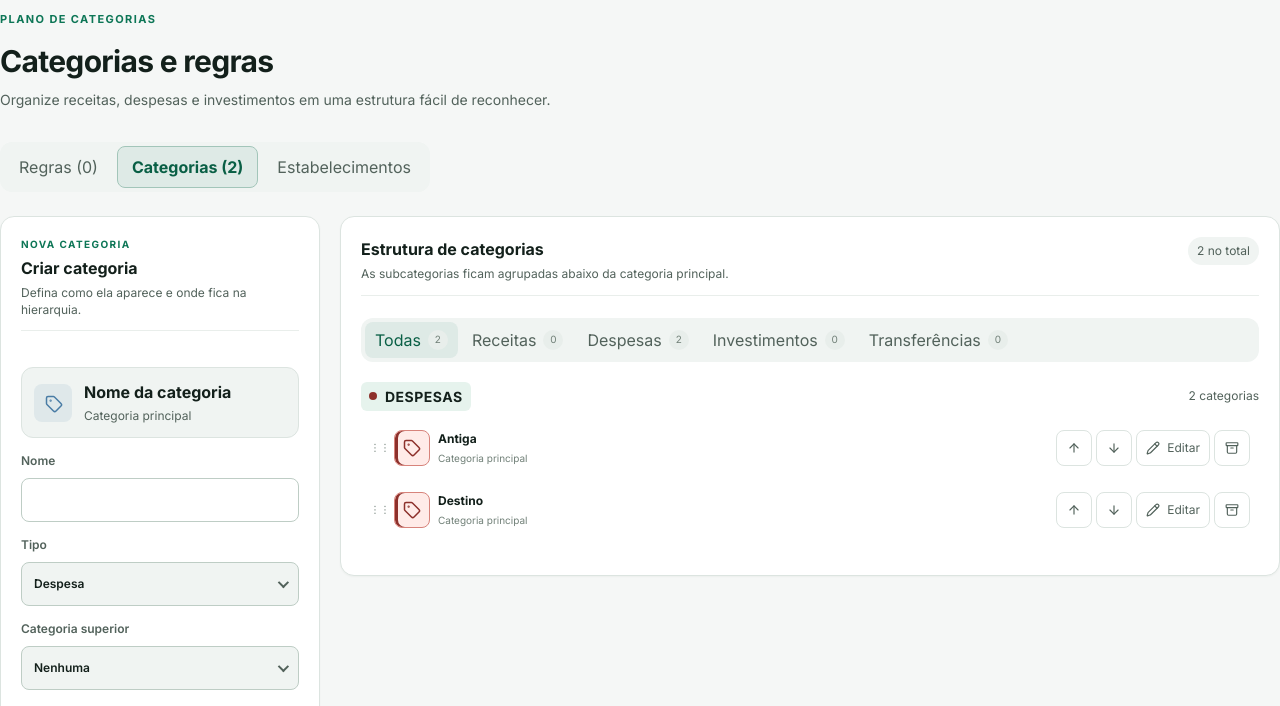
it: CategoriesRules merchants › invalidates an outstanding preview when the merge modal closes
Click the button named "Arquivar Antiga": (1232,448) [1214,430,1250,466]
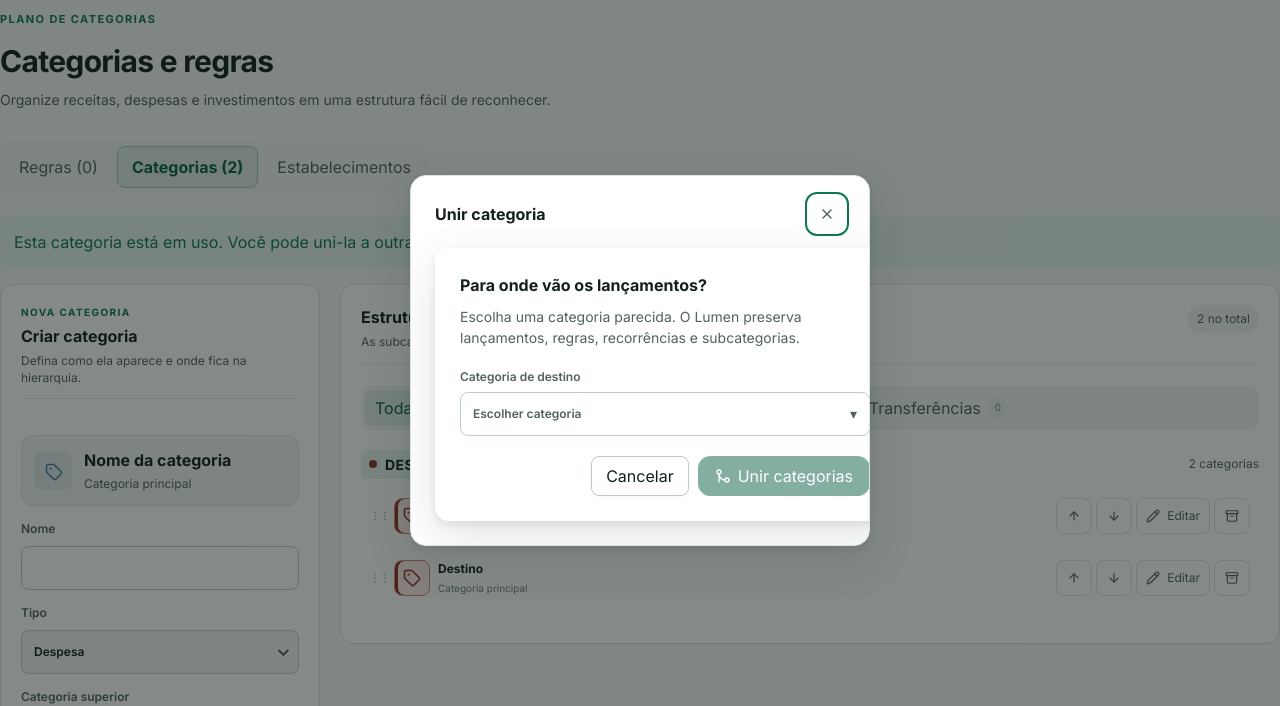
Click the button with aria-label "Categoria de destino": (527,413) [460,392,870,436]
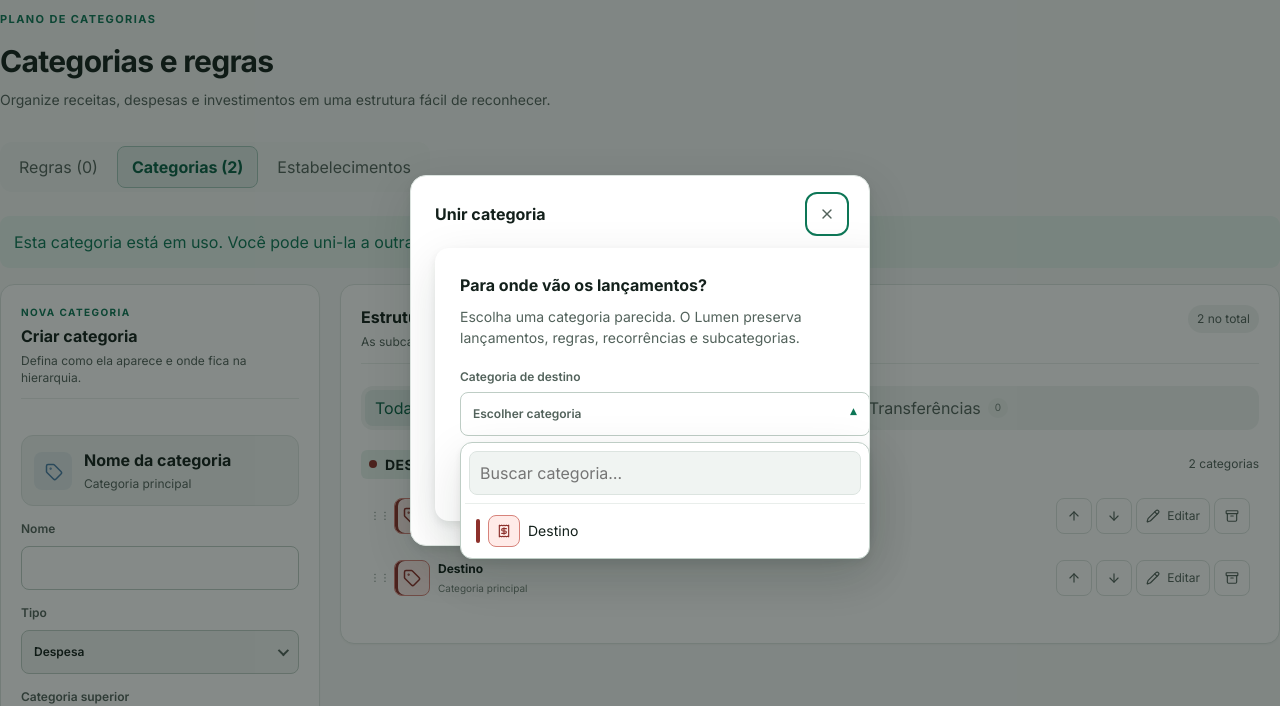
Click the option "Destino": (504,530) [465,508,865,554]
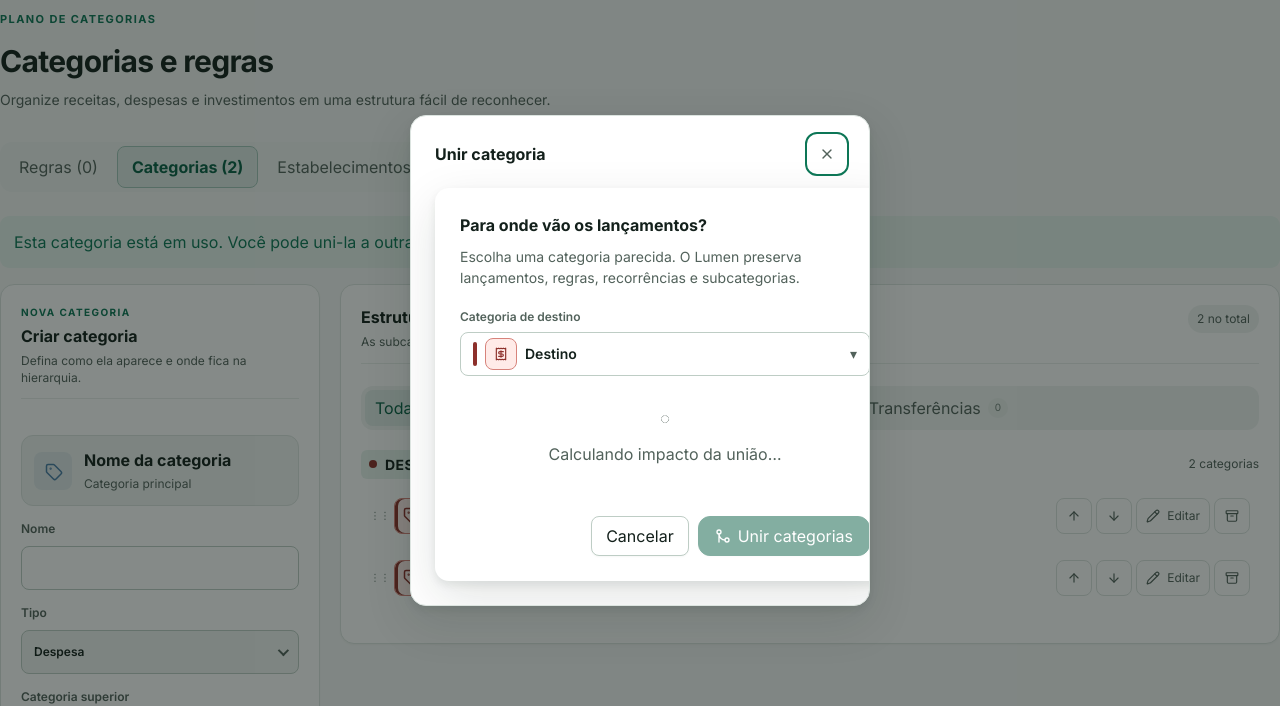
Click the button "Cancelar": (640,536) [591,516,689,556]
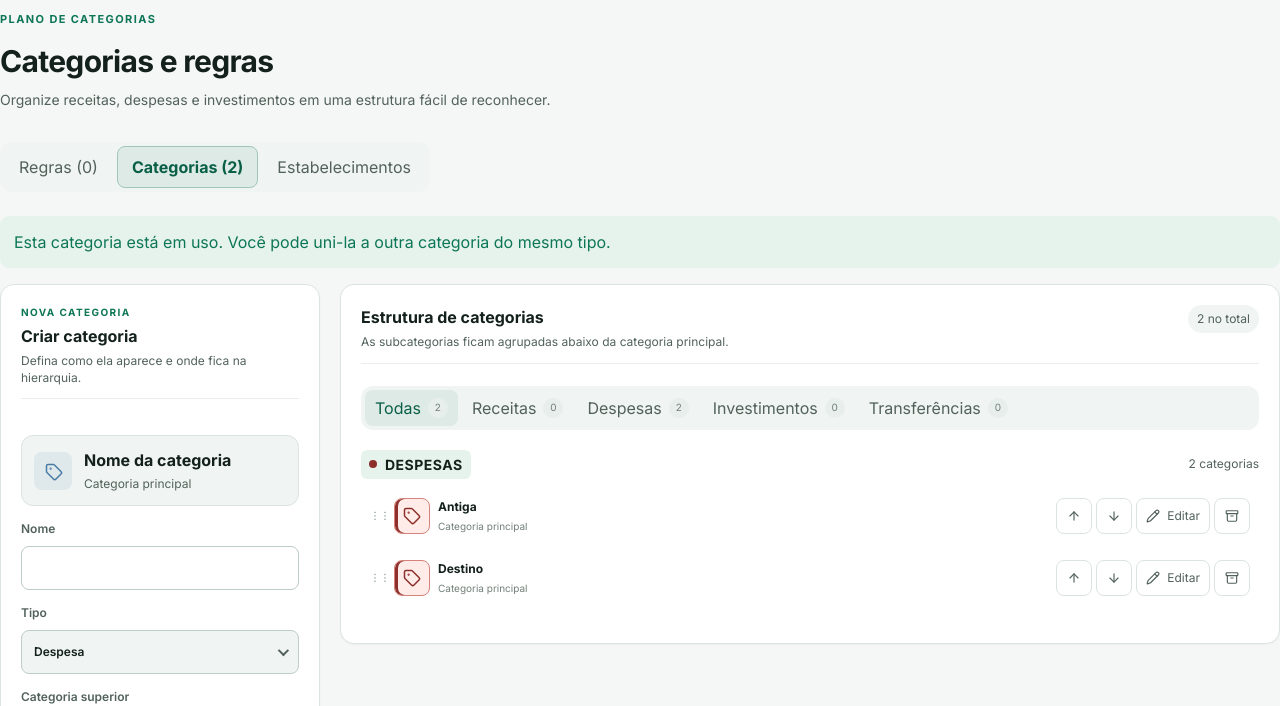
Result: the heading "Unir categoria" is gone
